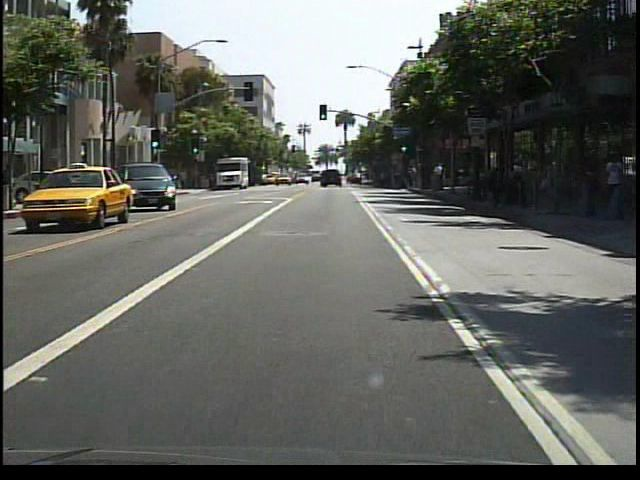person: (599, 150, 625, 190), (177, 163, 191, 190)
